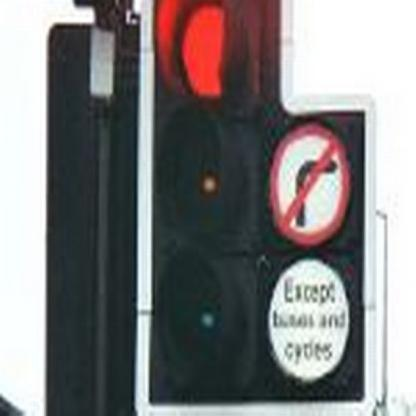Red Light: (144, 0, 268, 403)
